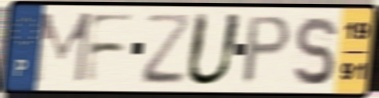F: (81, 12, 138, 86)
M: (31, 10, 94, 86)
P: (239, 13, 295, 88)
S: (291, 14, 338, 88)
U: (182, 11, 246, 89)
Z: (141, 11, 194, 88)
